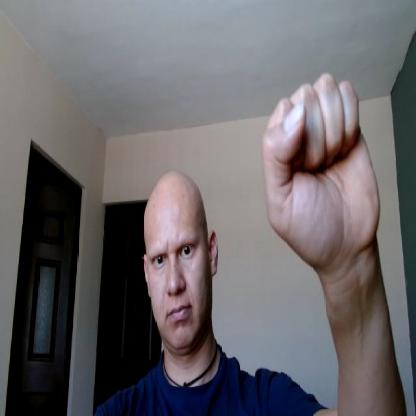S: (265, 70, 382, 264)
